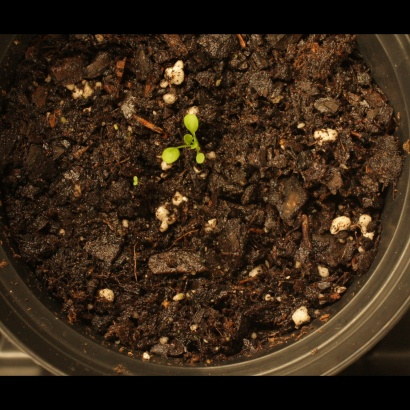leaf: (192, 149, 215, 172), (183, 110, 206, 133), (161, 144, 184, 167), (176, 129, 199, 152)
